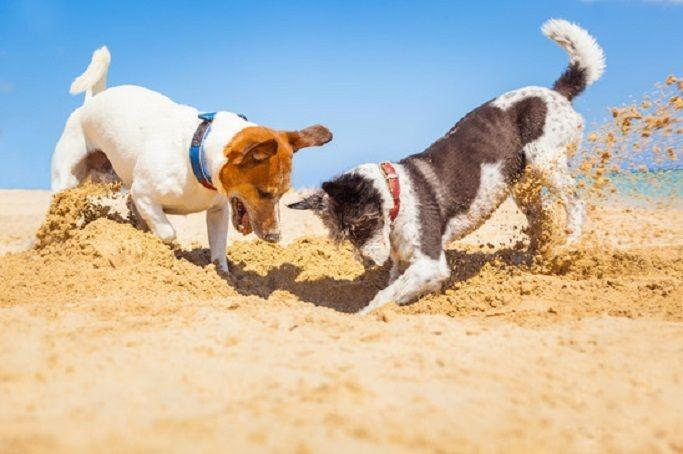adult_dog: (288, 15, 608, 317), (48, 44, 334, 289)
